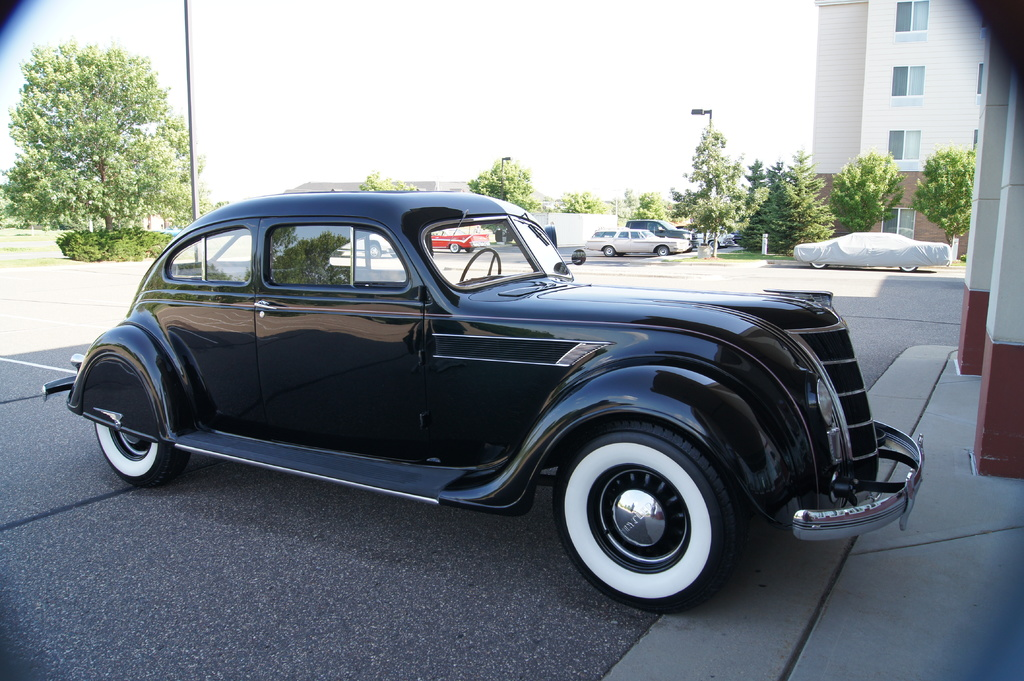cars: (39, 190, 949, 613)
